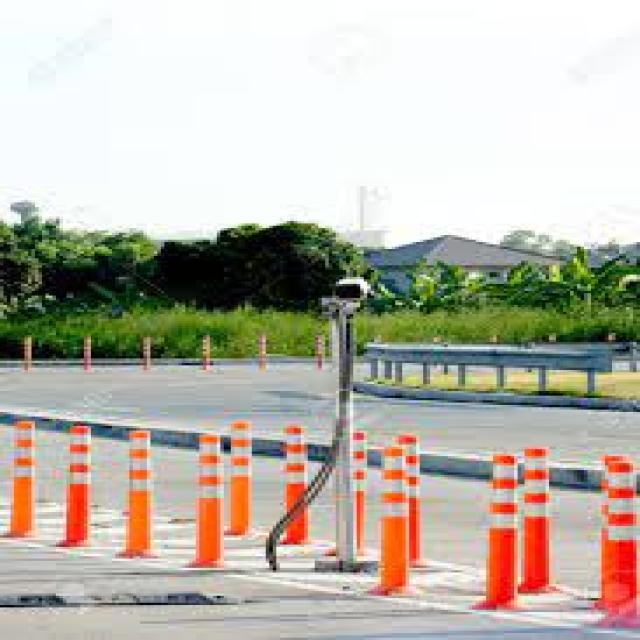bollard: (511, 426, 567, 604), (592, 443, 640, 640), (476, 446, 526, 630), (366, 446, 414, 608), (389, 428, 441, 573), (119, 428, 165, 563), (192, 428, 230, 581), (222, 408, 261, 540), (280, 420, 318, 550), (5, 416, 41, 542), (65, 424, 96, 552), (352, 425, 371, 560), (70, 332, 98, 371), (21, 332, 41, 374), (135, 335, 158, 371), (310, 331, 326, 376), (198, 332, 214, 370), (254, 330, 267, 370)
